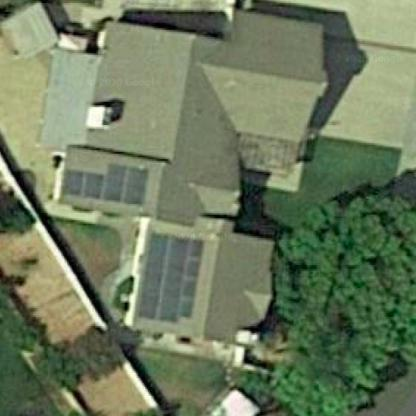solar_panel: (138, 222, 212, 337), (47, 144, 155, 215)
